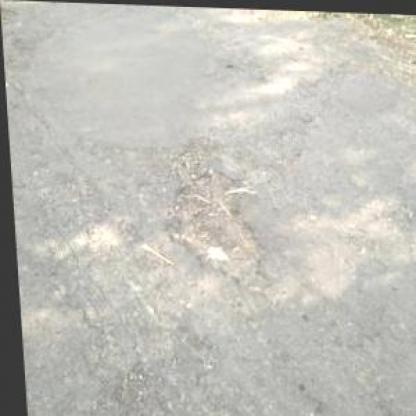pothole: (154, 132, 272, 294)
